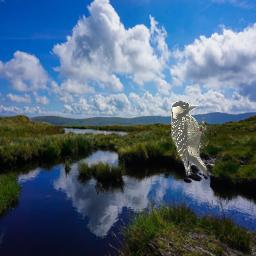Woodpecker: (171, 101, 210, 177)
